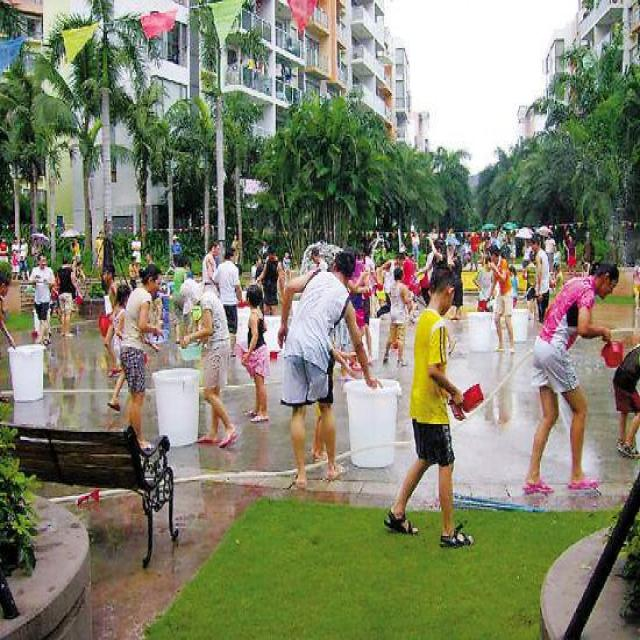non-fight: (385, 253, 473, 547), (524, 256, 616, 496), (277, 240, 350, 482), (118, 263, 166, 462), (185, 276, 239, 446), (239, 272, 270, 422), (482, 240, 518, 352), (611, 320, 639, 458)
